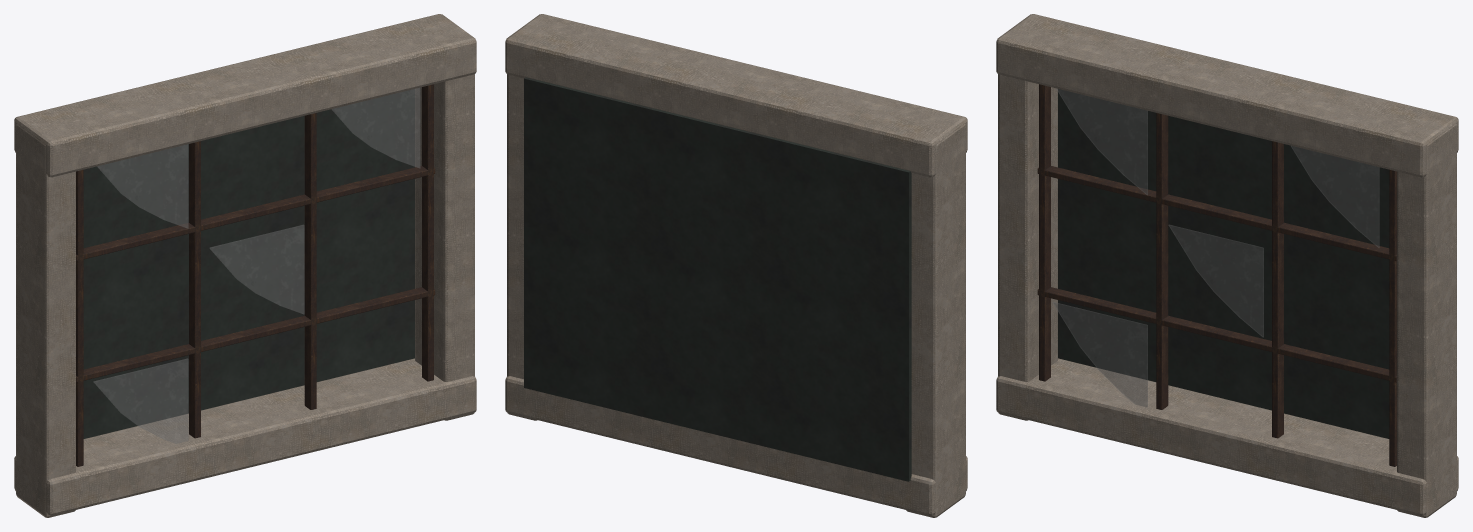
Rendered from f3_shattered_window.glb.
3 views of the same model, side by side, from view 1: azimuth 30°, elevation 25°; view 2: azimuth 150°, elevation 25°; view 3: azimuth 330°, elevation 25° (orthographic).
Visible parts, largest first — view 1: f3_weathered_concrete_surface, f3_deep_crack_surface, f3_oxidized_iron_surface, lightly_weathered_clear_glass.001_surface, lightly_weathered_clear_glass_surface, lightly_weathered_clear_glass.003_surface, lightly_weathered_clear_glass.002_surface; view 2: f3_deep_crack_surface, f3_weathered_concrete_surface; view 3: f3_weathered_concrete_surface, f3_deep_crack_surface, f3_oxidized_iron_surface, lightly_weathered_clear_glass.001_surface, lightly_weathered_clear_glass_surface, lightly_weathered_clear_glass.003_surface, lightly_weathered_clear_glass.002_surface.
Boxes of the visible parts, left/top/right/bottom form: f3_weathered_concrete_surface: left=14, top=14, right=476, bottom=517; f3_deep_crack_surface: left=83, top=89, right=414, bottom=438; f3_oxidized_iron_surface: left=76, top=84, right=435, bottom=466; lightly_weathered_clear_glass.001_surface: left=209, top=224, right=304, bottom=314; lightly_weathered_clear_glass_surface: left=93, top=358, right=188, bottom=443; lightly_weathered_clear_glass.003_surface: left=97, top=144, right=188, bottom=228; lightly_weathered_clear_glass.002_surface: left=332, top=87, right=420, bottom=168; f3_deep_crack_surface: left=524, top=77, right=911, bottom=481; f3_weathered_concrete_surface: left=505, top=14, right=967, bottom=517; f3_weathered_concrete_surface: left=996, top=14, right=1458, bottom=517; f3_deep_crack_surface: left=1058, top=89, right=1389, bottom=438; f3_oxidized_iron_surface: left=1037, top=84, right=1396, bottom=466; lightly_weathered_clear_glass.001_surface: left=1168, top=224, right=1263, bottom=337; lightly_weathered_clear_glass_surface: left=1052, top=302, right=1147, bottom=407; lightly_weathered_clear_glass.003_surface: left=1056, top=88, right=1147, bottom=194; lightly_weathered_clear_glass.002_surface: left=1291, top=146, right=1379, bottom=247.
Bounding box in the file's own units: 3.71 × 3.12 × 0.575.
Materials: 7 (7 with a texture image).
